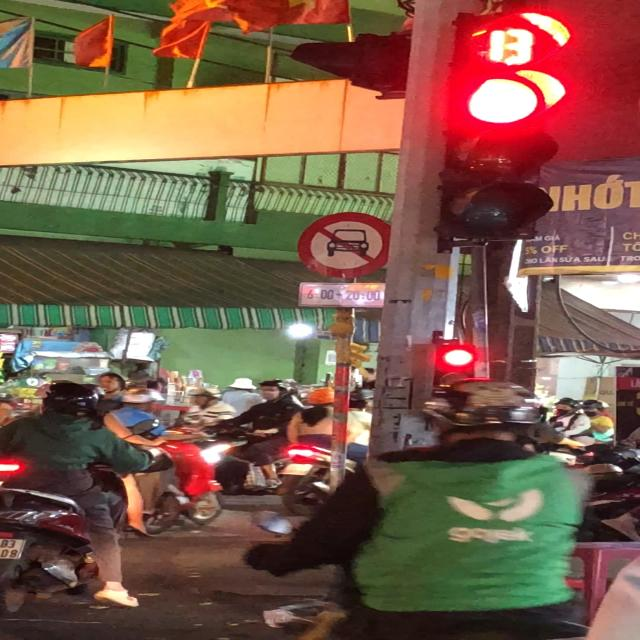Bien bao cam xe oto: (291, 211, 390, 281)
